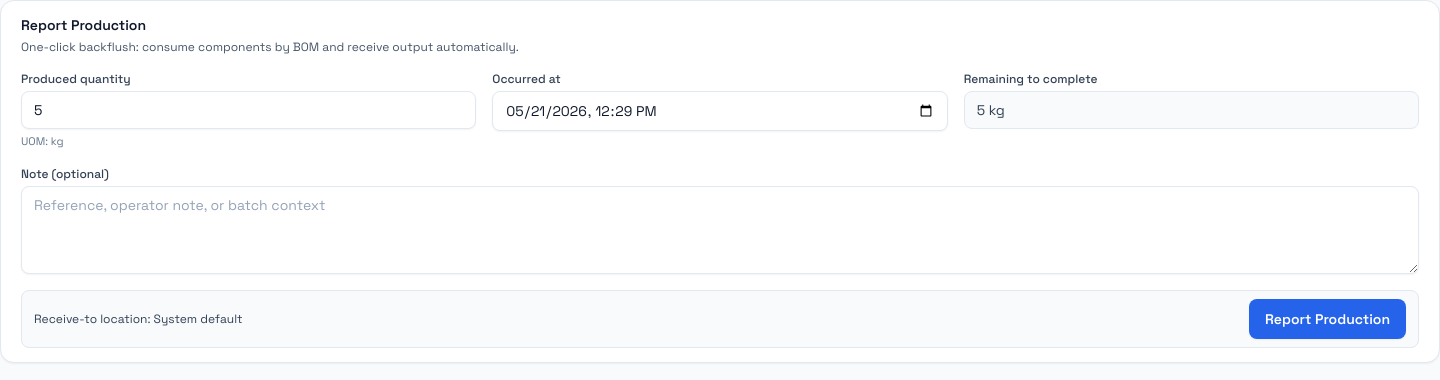
Scenario: UI async and state rendering › disables submit while report production mutation is pending
Click the button "Report Production". click: (1328, 318)
box: [1249,298,1406,338]
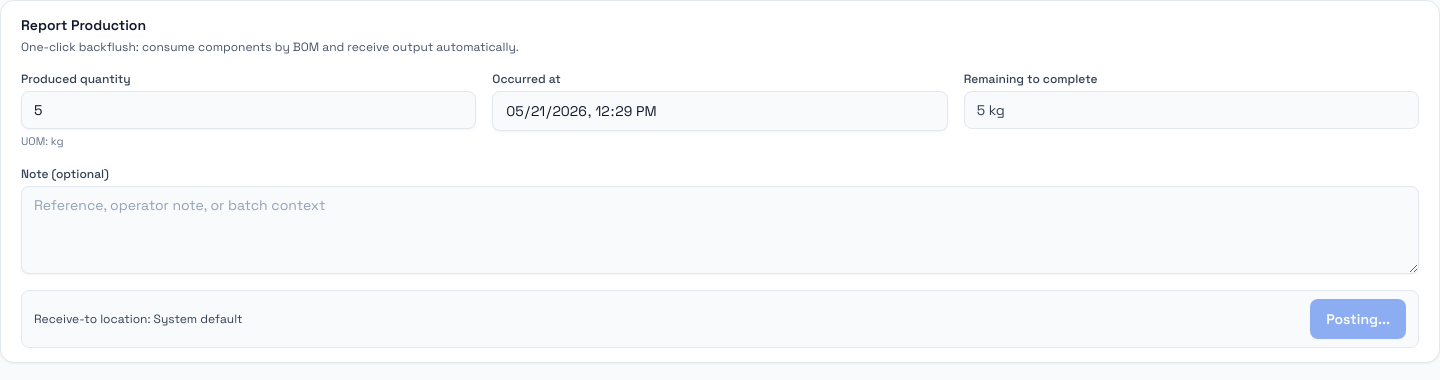
Result: the button "Posting..." is disabled at [1310,298,1406,338]
